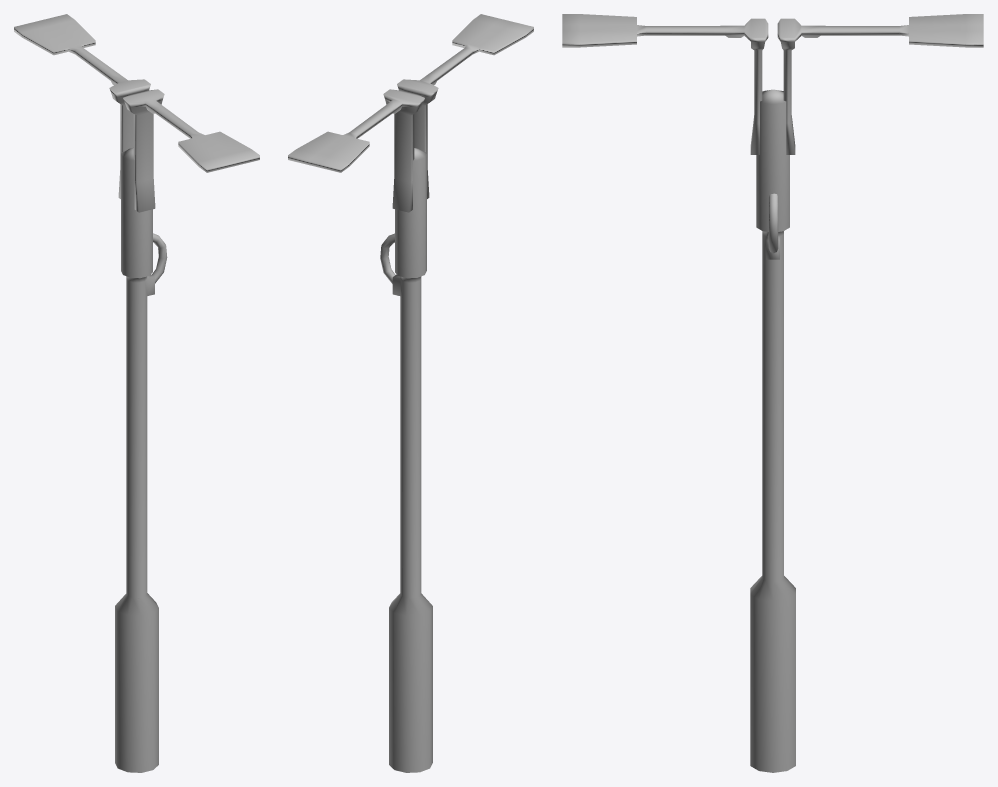
File: poste_de_luz.obj
3 renders of one model, left to right at view 1: azimuth 30°, elevation 25°; view 2: azimuth 150°, elevation 25°; view 3: azimuth 270°, elevation 25°, orthographic. The views are drawn at different scales.
Parts seen in each view (by area): view 1: defaultMaterial.002, defaultMaterial; view 2: defaultMaterial.002, defaultMaterial, defaultMaterial.001; view 3: defaultMaterial.002, defaultMaterial.
Part boxes in pixels (bbox=[...]): defaultMaterial.002: bbox=[115, 148, 158, 772]; defaultMaterial: bbox=[14, 14, 259, 212]; defaultMaterial.002: bbox=[389, 148, 432, 772]; defaultMaterial: bbox=[288, 14, 533, 212]; defaultMaterial.001: bbox=[380, 233, 395, 283]; defaultMaterial.002: bbox=[750, 89, 795, 772]; defaultMaterial: bbox=[562, 14, 983, 154].
Size of the model in its own units: 0.00354 by 0.0403 by 0.0209.
Materials: 1 (1 with a texture image).
